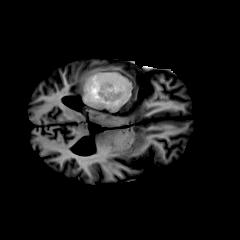glioma: (76, 70, 139, 114)
